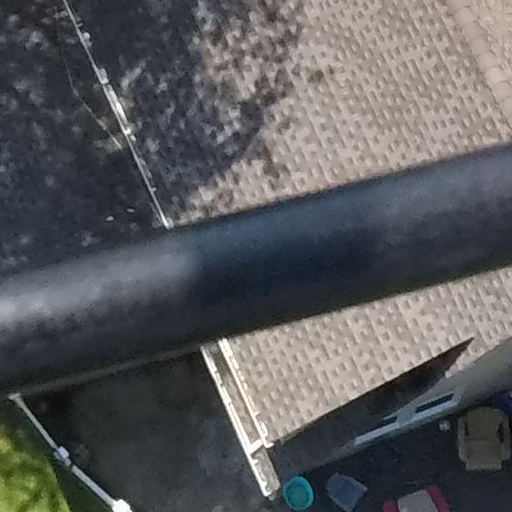container: (276, 467, 319, 509)
